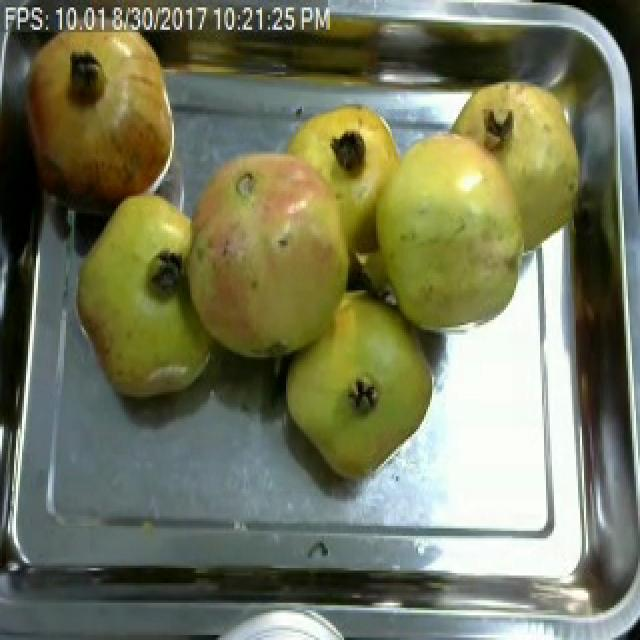fruit: (152, 129, 372, 382), (6, 0, 186, 233), (272, 268, 440, 491), (272, 92, 410, 201), (444, 72, 584, 166)
